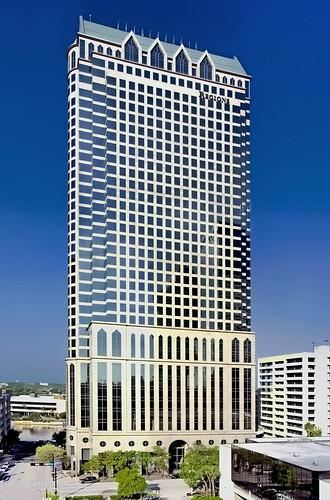building: (64, 13, 260, 456)
